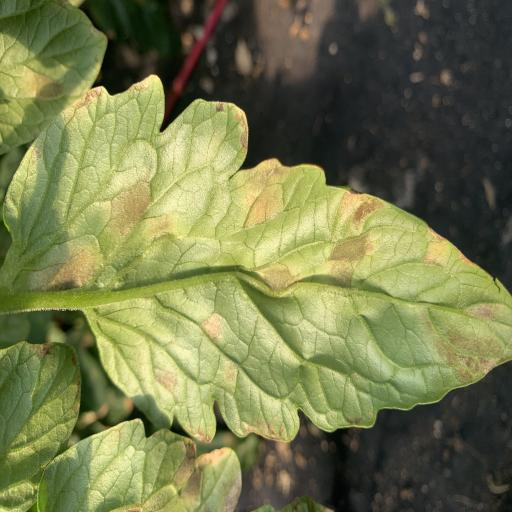disease_tomato: (0, 70, 512, 446)
